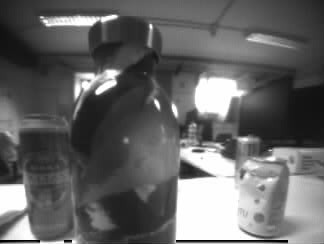Bottle: (74, 15, 177, 244)
Tin can: (20, 116, 70, 239), (238, 158, 288, 239), (236, 135, 259, 165)
